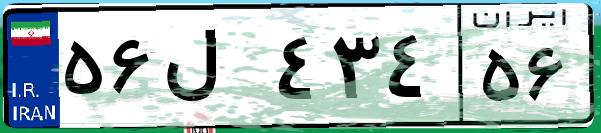3: (330, 28, 385, 110)
4: (270, 28, 330, 110), (385, 28, 445, 110)
5: (57, 26, 110, 100), (475, 38, 525, 113)
6: (525, 38, 570, 115), (110, 28, 158, 98)
ل: (158, 20, 270, 120)
